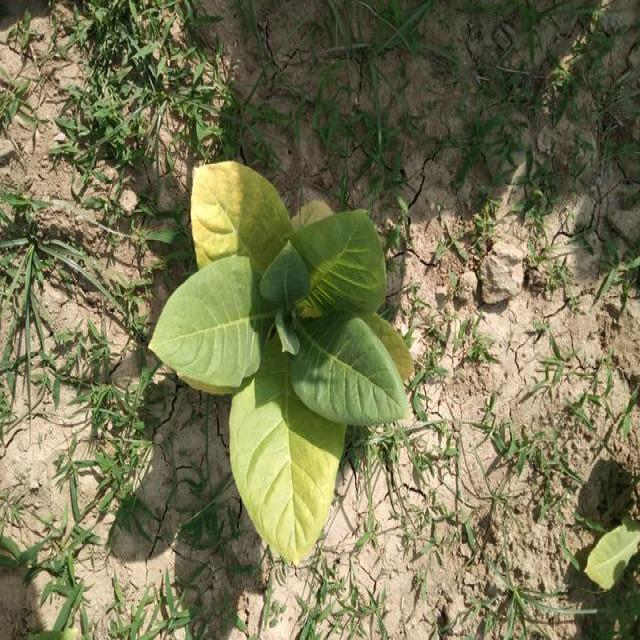crop: (145, 154, 426, 566)
